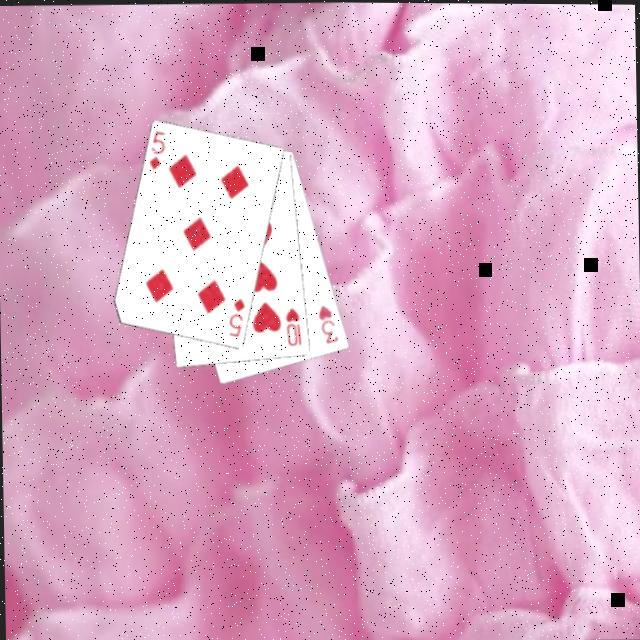10H: (284, 306, 306, 350)
3H: (316, 302, 344, 348)
5D: (147, 129, 170, 175), (227, 297, 250, 341)
